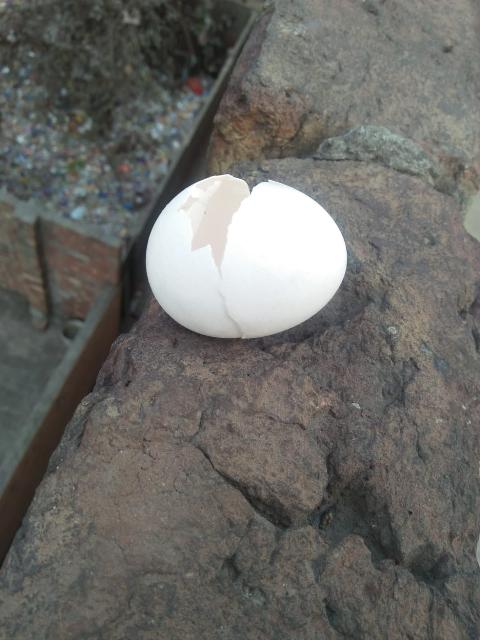Roto: (144, 173, 348, 340)
